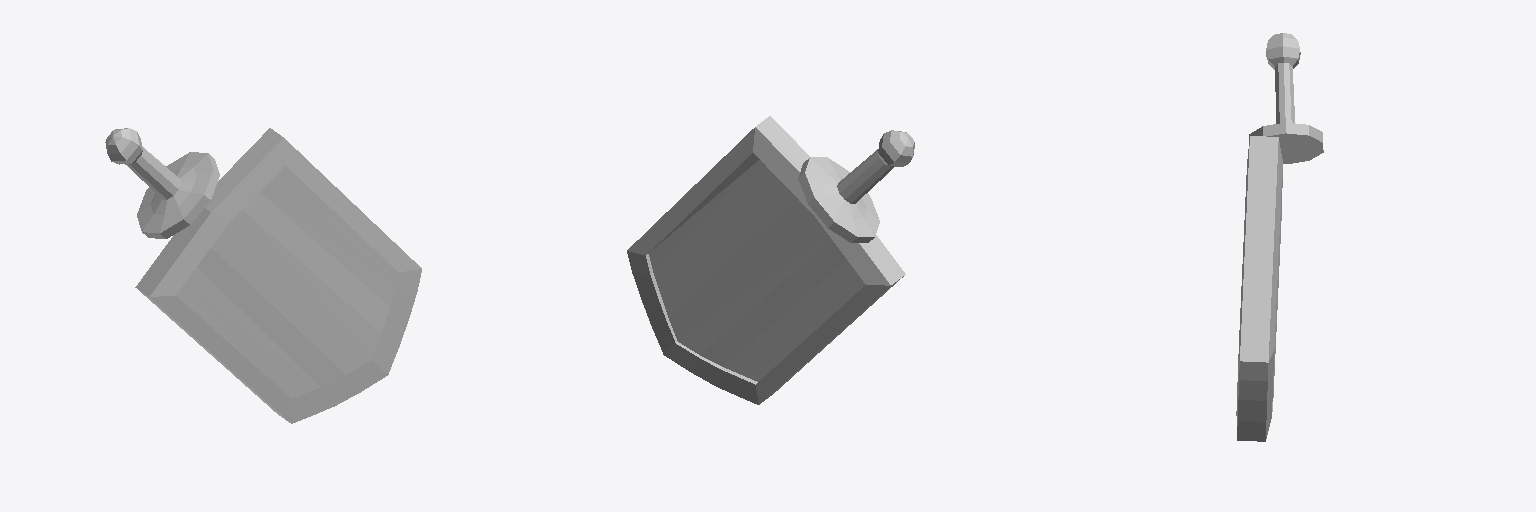
File: swordandshield.obj
3 renders of one model, left to right at view 1: azimuth 30°, elevation 25°; view 2: azimuth 150°, elevation 25°; view 3: azimuth 270°, elevation 25°, orthographic.
Visible parts, largest first — view 1: mesh pCube20, pCylinder10 mesh; view 2: mesh pCube20, pCylinder10 mesh; view 3: mesh pCube20, pCylinder10 mesh.
Part boxes in pixels (x1,y1,x2,y2): mesh pCube20: (135,128,421,423); pCylinder10 mesh: (105,128,219,238); mesh pCube20: (627,116,905,404); pCylinder10 mesh: (798,130,914,242); mesh pCube20: (1236,136,1282,441); pCylinder10 mesh: (1249,33,1323,163).
Bounding box in the file's own units: 4.94 × 5.07 × 1.27.